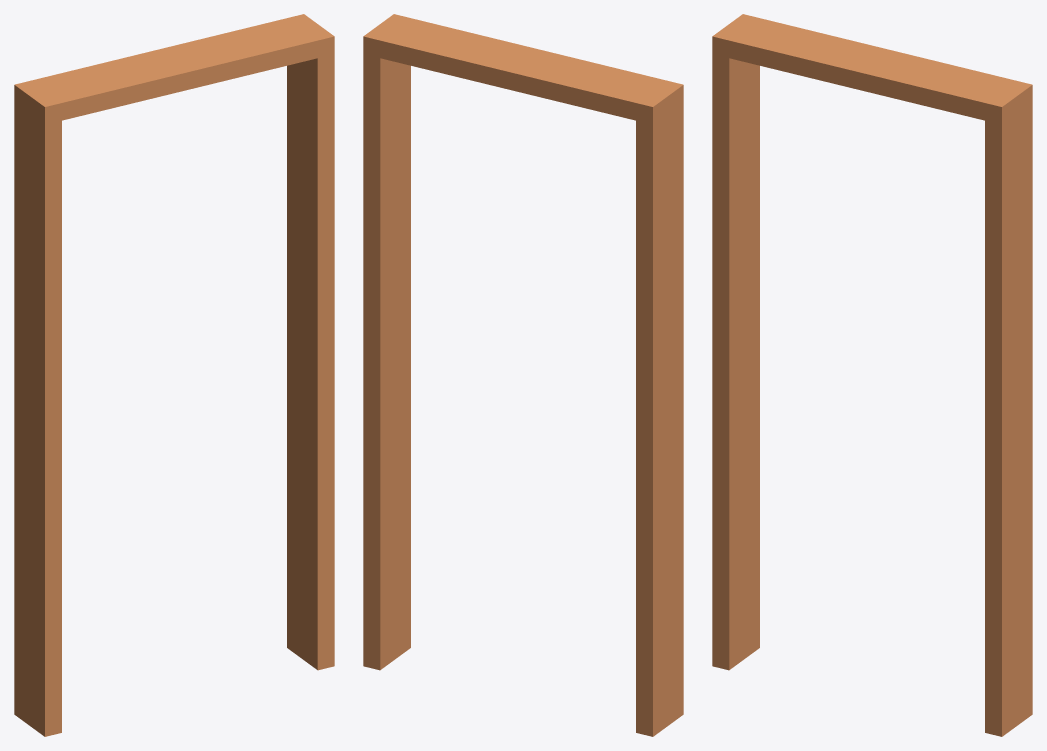
File: Doorway Open.glb
3 renders of one model, left to right at view 1: azimuth 30°, elevation 25°; view 2: azimuth 150°, elevation 25°; view 3: azimuth 330°, elevation 25°, orthographic.
Visible parts, largest first — view 1: doorwayOpen; view 2: doorwayOpen; view 3: doorwayOpen.
Boxes of the visible parts, x1,y1,x2,y2 form: doorwayOpen: (14, 14, 334, 736); doorwayOpen: (363, 14, 683, 736); doorwayOpen: (712, 14, 1032, 736).
Bounding box in the file's own units: 0.486 × 1.01 × 0.0891.
